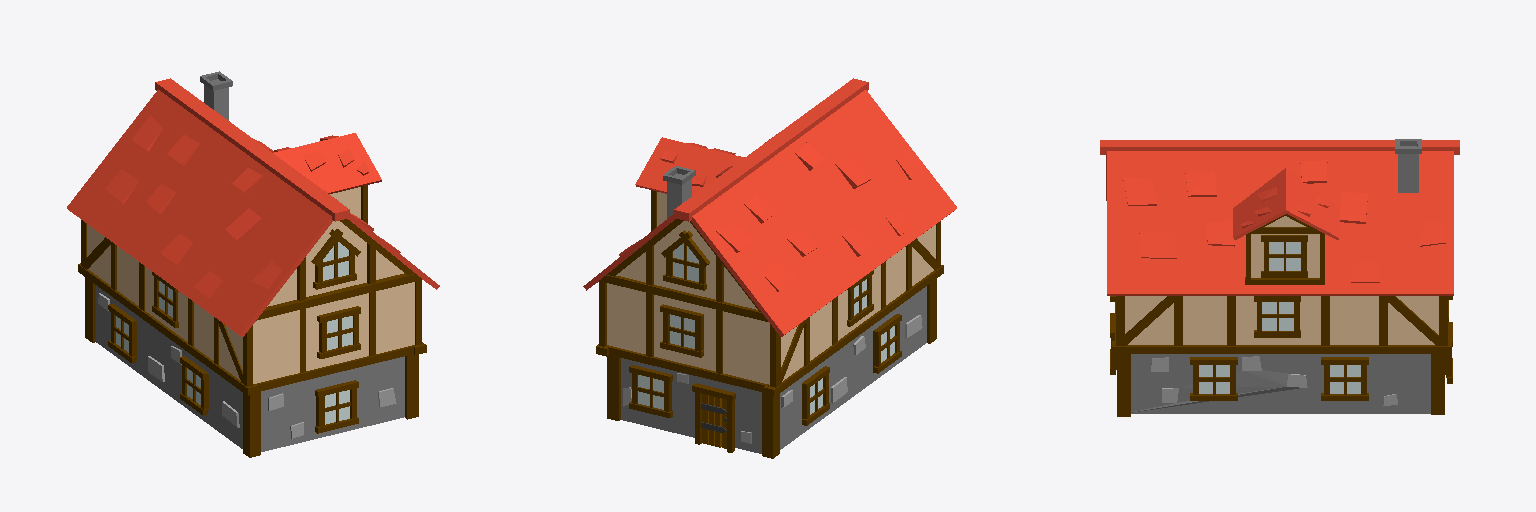
File: LilRedHouse.obj
3 renders of one model, left to right at view 1: azimuth 30°, elevation 25°; view 2: azimuth 150°, elevation 25°; view 3: azimuth 270°, elevation 25°, orthographic.
Parts seen in each view (by area): view 1: LilRedHouse; view 2: LilRedHouse; view 3: LilRedHouse.
Boxes of the visible parts, x1,y1,x2,y2 form: LilRedHouse: [67, 71, 439, 457]; LilRedHouse: [583, 78, 956, 458]; LilRedHouse: [1100, 139, 1459, 416].
Size of the model in its own units: 10.33 by 11.9 by 15.59.